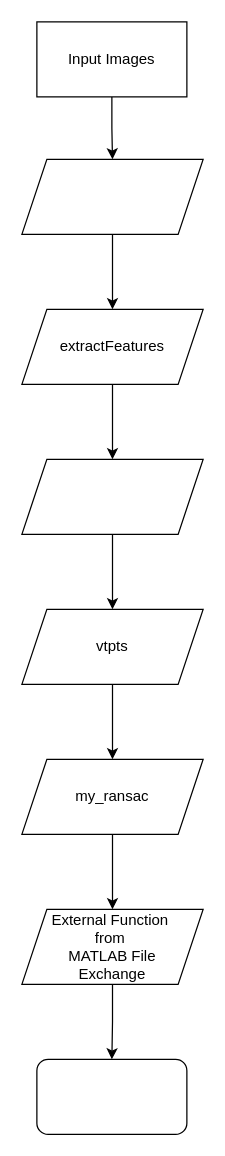
The diagram is 225 pixels wide and 1156 high, and some of its shapes have lost their labels. Each missing label, with the centre of its shape:
detectHarrisFeatures: [112,196]
matchFeatures: [112,496]
Mosaiced Images: [111,1096]
